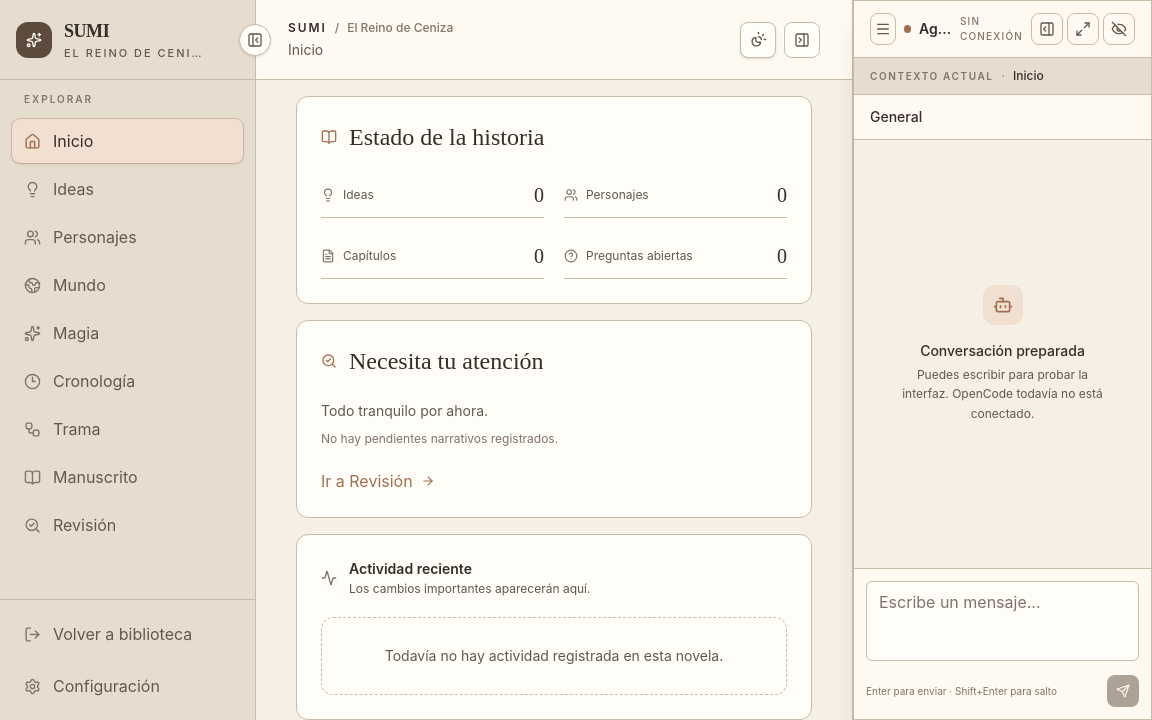
SUMI shell › keeps the home overview focused on current empty story state
This screenshot has width=1152, height=720.
(page scrolled)
expect the button with aria-label "Ideas: 0" is shown: met, box [321,173,544,218]
expect the button with aria-label "Personajes: 0" is shown: met, box [564,173,787,218]
Click the button "Ir a Revisión" at (378, 480), box [321,468,435,492]
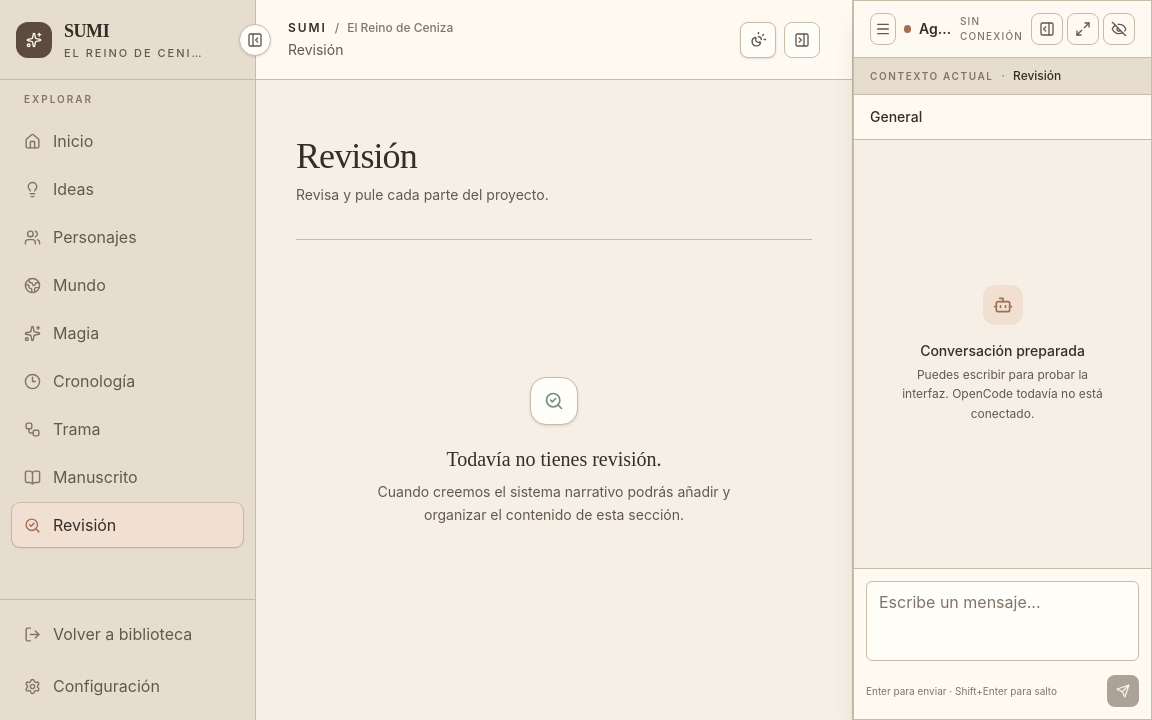
expect the heading "Revisión" is shown: met, box [296,136,417,176]
Click the button "Inicio" at (128, 141), box [12,119,243,163]
(page scrolled)
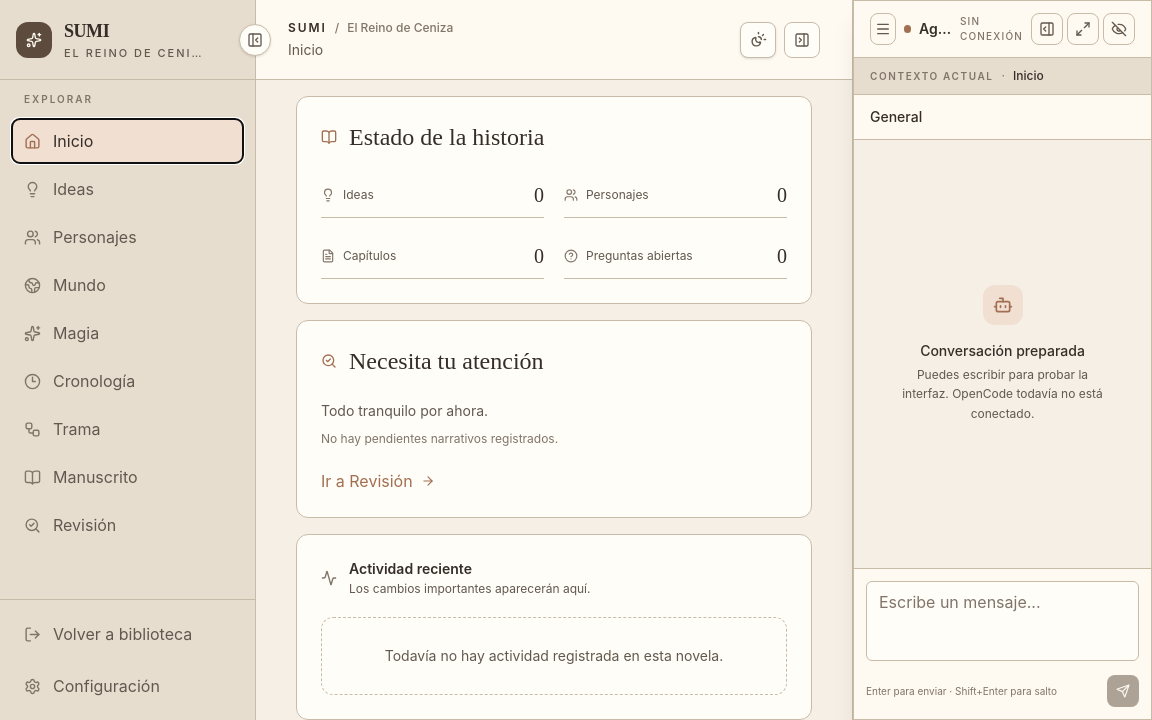
expect the text "Todavía no hay actividad registrada en esta novela." is shown: met, box [385,646,723,664]
expect the text "Los cambios importantes aparecerán aquí." is shown: met, box [349,580,590,596]
